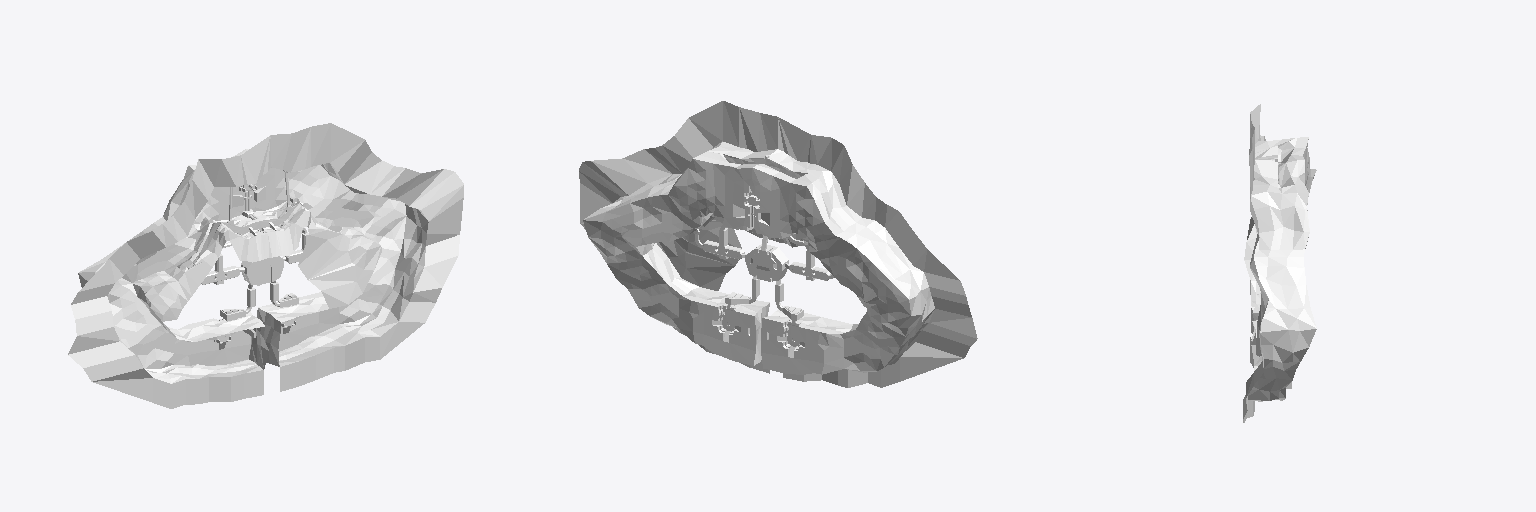
The model's file is dangercanyon_Lightmap.obj.
3 views of the same model, side by side, from view 1: azimuth 30°, elevation 25°; view 2: azimuth 150°, elevation 25°; view 3: azimuth 270°, elevation 25° (orthographic).
Parts seen in each view (by area): view 1: dangercanyon_Lightmap_0, dangercanyon_Lightmap_13, dangercanyon_Lightmap_15, dangercanyon_Lightmap_14, dangercanyon_Lightmap_16, dangercanyon_Lightmap_12; view 2: dangercanyon_Lightmap_13, dangercanyon_Lightmap_0, dangercanyon_Lightmap_15, dangercanyon_Lightmap_16, dangercanyon_Lightmap_14, dangercanyon_Lightmap_9, dangercanyon_Lightmap_1, dangercanyon_Lightmap_2; view 3: dangercanyon_Lightmap_14, dangercanyon_Lightmap_16, dangercanyon_Lightmap_0, dangercanyon_Lightmap_15, dangercanyon_Lightmap_13.
Boxes of the visible parts, x1=… form: dangercanyon_Lightmap_0: x1=68, y1=123, x2=463, y2=408; dangercanyon_Lightmap_13: x1=107, y1=165, x2=406, y2=368; dangercanyon_Lightmap_15: x1=78, y1=166, x2=268, y2=383; dangercanyon_Lightmap_14: x1=311, y1=163, x2=428, y2=347; dangercanyon_Lightmap_16: x1=188, y1=149, x2=304, y2=230; dangercanyon_Lightmap_12: x1=241, y1=256, x2=283, y2=285; dangercanyon_Lightmap_13: x1=583, y1=159, x2=910, y2=374; dangercanyon_Lightmap_0: x1=579, y1=101, x2=977, y2=387; dangercanyon_Lightmap_15: x1=764, y1=171, x2=934, y2=372; dangercanyon_Lightmap_16: x1=693, y1=142, x2=828, y2=238; dangercanyon_Lightmap_14: x1=584, y1=141, x2=722, y2=327; dangercanyon_Lightmap_9: x1=745, y1=235, x2=781, y2=281; dangercanyon_Lightmap_1: x1=694, y1=229, x2=746, y2=259; dangercanyon_Lightmap_2: x1=785, y1=259, x2=834, y2=280; dangercanyon_Lightmap_14: x1=1248, y1=192, x2=1316, y2=401; dangercanyon_Lightmap_16: x1=1251, y1=137, x2=1308, y2=195; dangercanyon_Lightmap_0: x1=1243, y1=104, x2=1280, y2=422; dangercanyon_Lightmap_15: x1=1244, y1=224, x2=1260, y2=341; dangercanyon_Lightmap_13: x1=1251, y1=139, x2=1316, y2=388.
Bounding box in the file's own units: 14810 × 9220 × 2380.